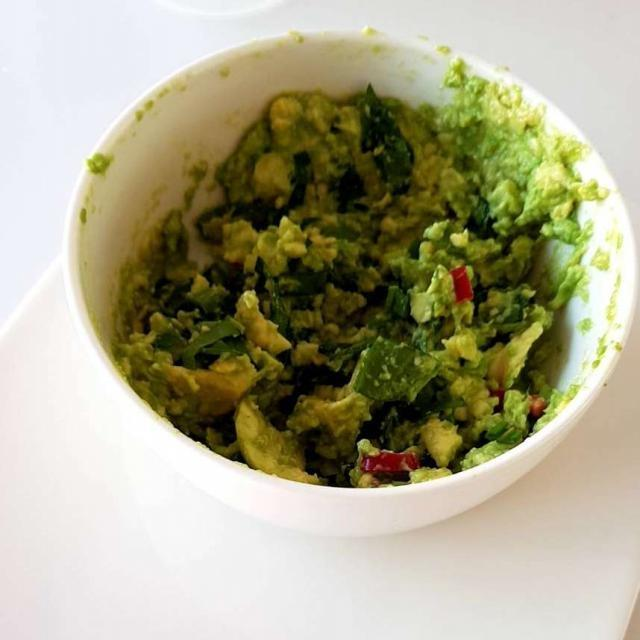guacamole: (104, 88, 585, 479)
